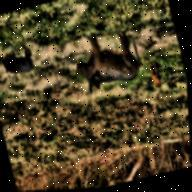boar: (64, 19, 154, 106)
